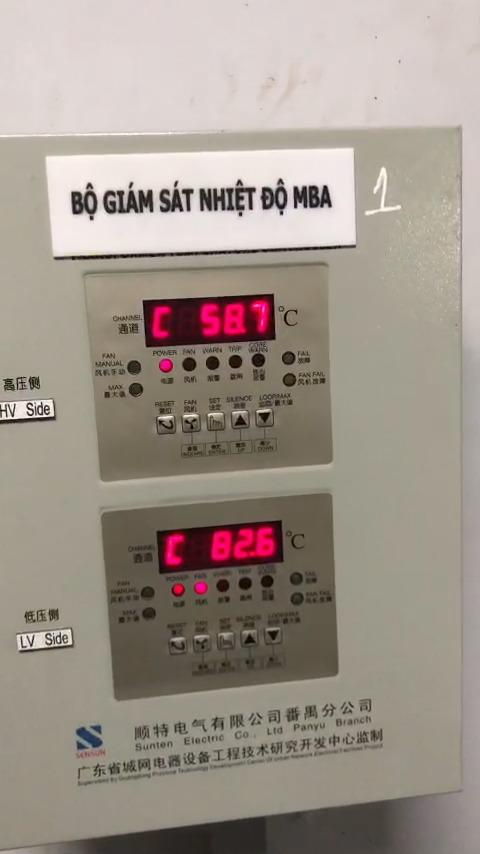led: (290, 591, 304, 606), (229, 354, 243, 368), (183, 357, 197, 371), (128, 359, 142, 373), (159, 359, 173, 373), (129, 382, 143, 396), (289, 571, 303, 585), (239, 577, 253, 591), (195, 581, 209, 595), (171, 583, 185, 597), (141, 586, 155, 600), (143, 607, 157, 621), (251, 353, 266, 366), (282, 351, 295, 365), (207, 356, 220, 370), (261, 575, 275, 588), (283, 373, 296, 386), (217, 579, 230, 592)
